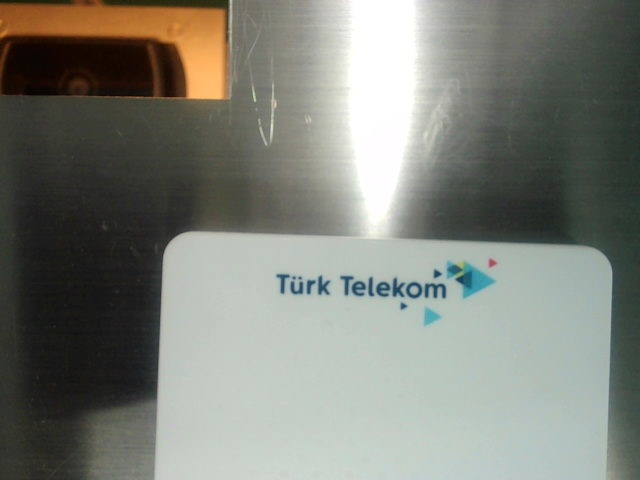AQ_TURKTelekom: (275, 250, 499, 324)
